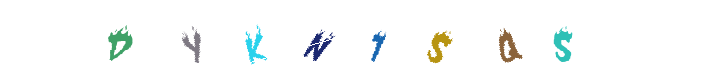1: (315, 0, 395, 80)
D: (79, 0, 159, 80)
K: (282, 0, 362, 80)
N: (297, 0, 377, 80)
Q: (398, 0, 478, 80)
S: (384, 0, 464, 80), (468, 0, 548, 80)
Y: (192, 0, 272, 80)
